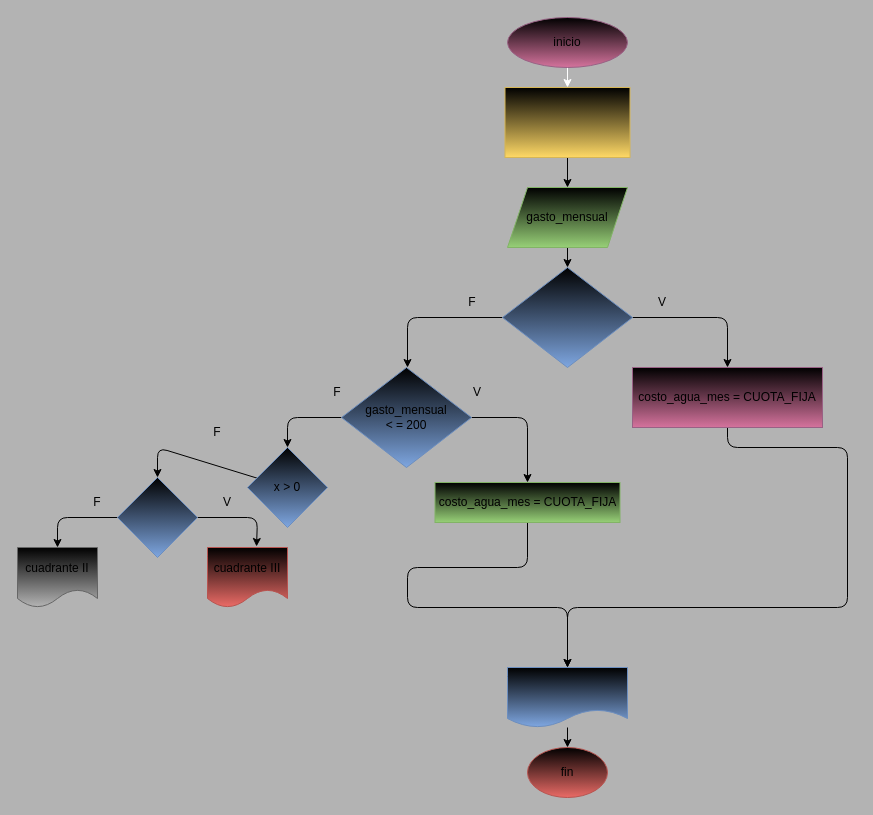
This 873x815 diagram has some shape labels left out. Each missing label, with the centre of its shape:
"costo_agua_mes" goes at (567,697).
"CUOTA_FIJA=10000" goes at (567,122).
"gasto_mensual < = 50" goes at (567,317).
"y < 0" goes at (157,517).
